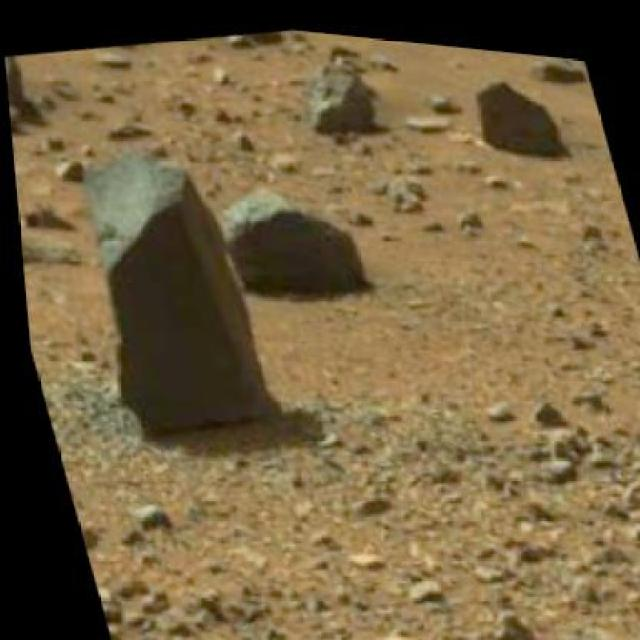rock: (39, 119, 281, 458), (210, 162, 376, 315), (492, 532, 638, 638), (460, 56, 575, 164), (288, 42, 386, 141), (4, 52, 50, 154), (212, 18, 294, 56), (560, 46, 588, 76)
